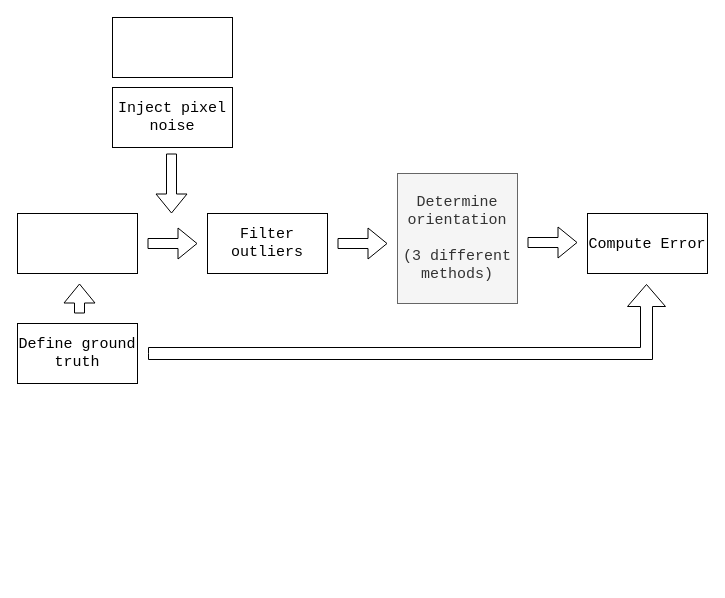
This 725x598 diagram has some shape labels left out. The shapes that lost their labels are listed below. From the top down, each one's centre as x and y in pixels, then its label:
the point at 172,47: Inject false matches
the point at 77,243: Generate point matches
